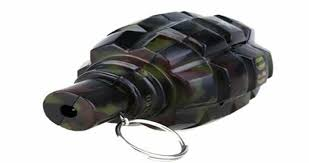e1: (44, 10, 273, 159)
